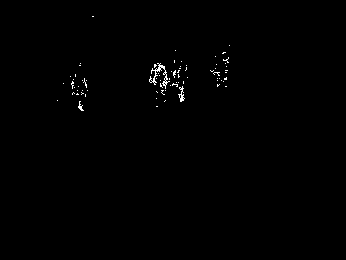person: (147, 60, 170, 104), (168, 58, 188, 103), (70, 65, 88, 114), (209, 51, 230, 91)
